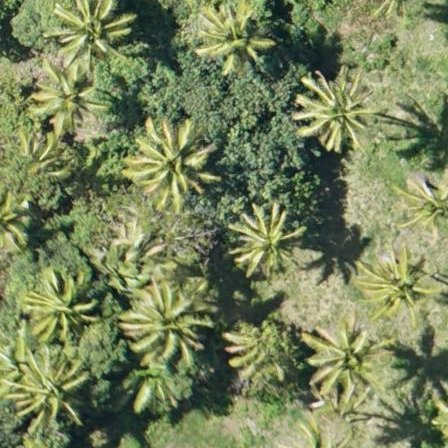palm_tree: (129, 279, 205, 360), (135, 124, 211, 205), (309, 321, 380, 397), (298, 75, 364, 146), (222, 311, 288, 382), (32, 55, 98, 125), (360, 245, 428, 311), (232, 208, 300, 273), (17, 354, 77, 418), (60, 1, 121, 61), (31, 277, 90, 339), (202, 3, 260, 66), (400, 169, 448, 230)
